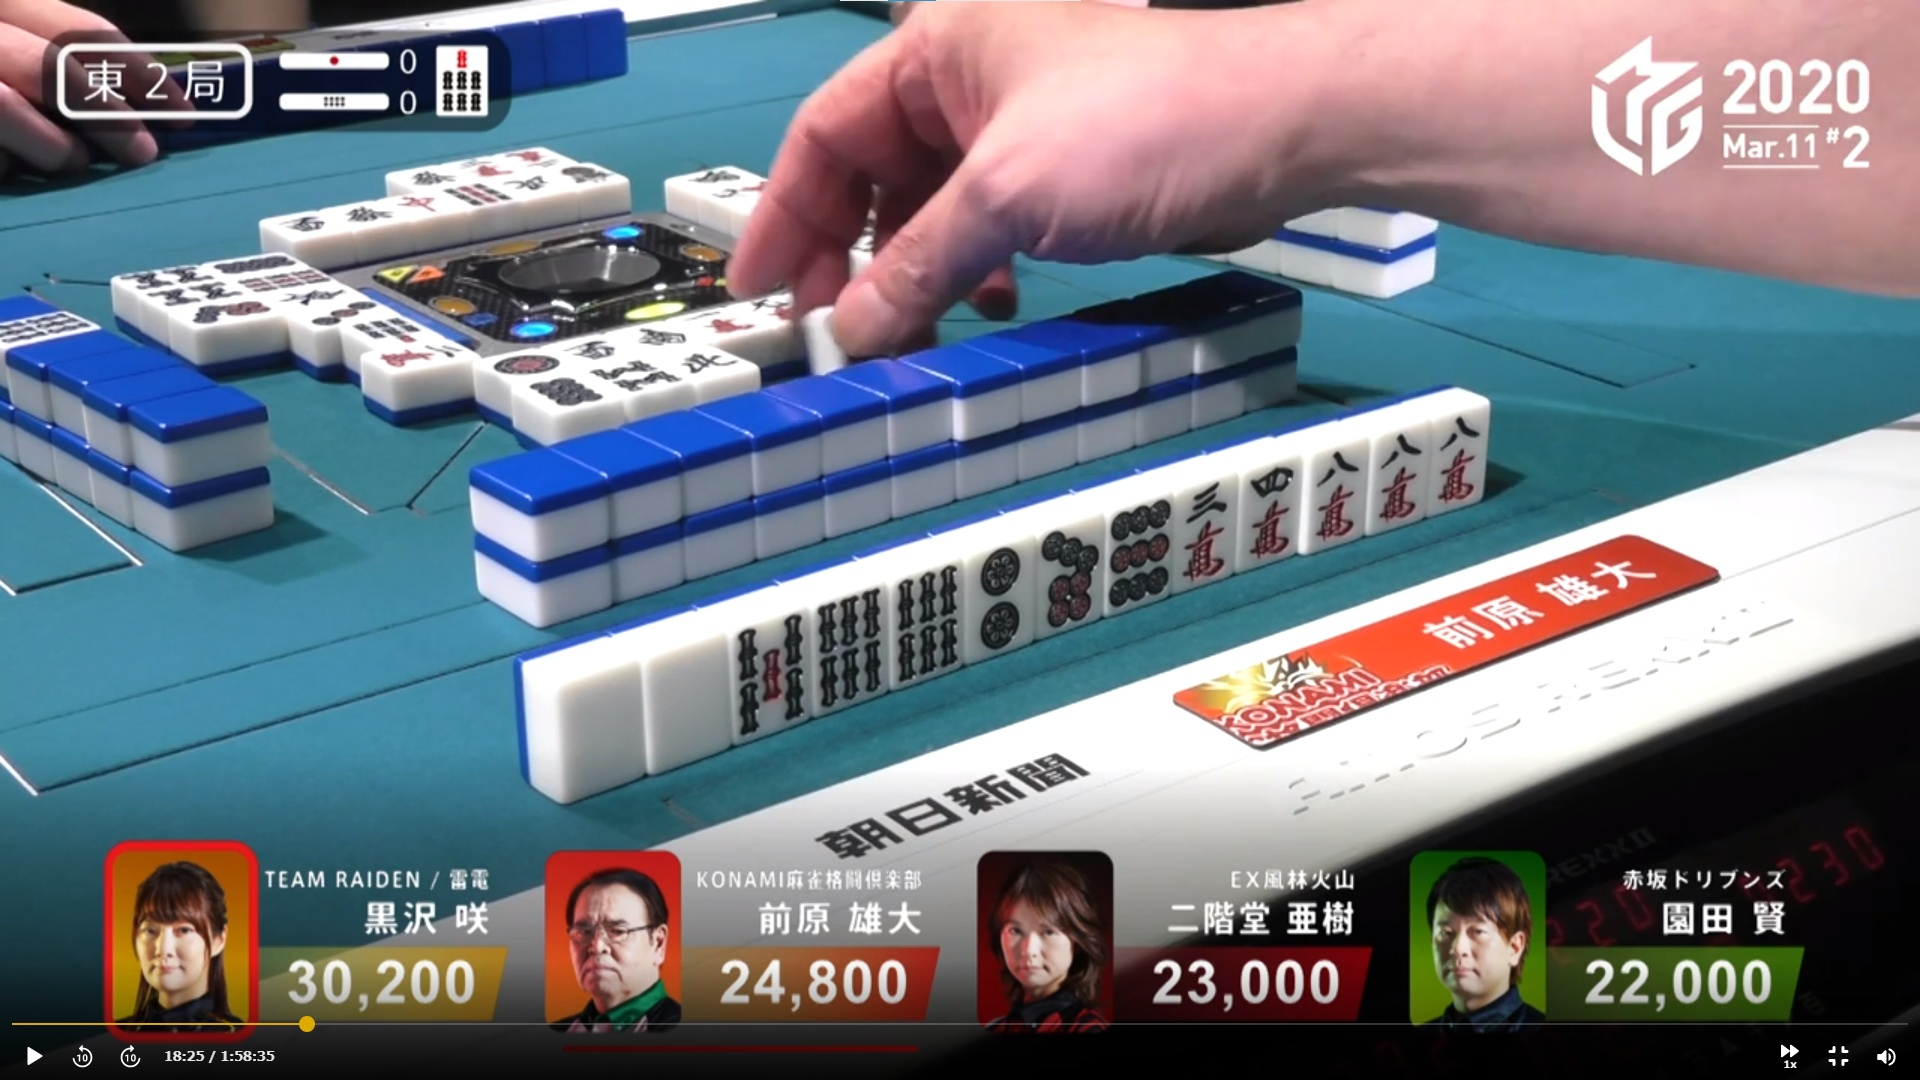2p: (963, 516, 1027, 655)
3m: (1170, 458, 1230, 591)
4m: (1232, 440, 1292, 567)
5s: (727, 589, 807, 744)
6s: (885, 535, 960, 682), (808, 566, 885, 709)
7p: (1031, 498, 1100, 636)
8m: (1300, 423, 1360, 553), (1425, 388, 1484, 516), (1367, 405, 1418, 530)
9p: (1105, 473, 1167, 616)
haku: (526, 636, 640, 785), (641, 617, 732, 767)
hand_ton_2: (53, 38, 257, 123)
round_0: (265, 87, 419, 123)
team_konami: (1167, 620, 1464, 752)
